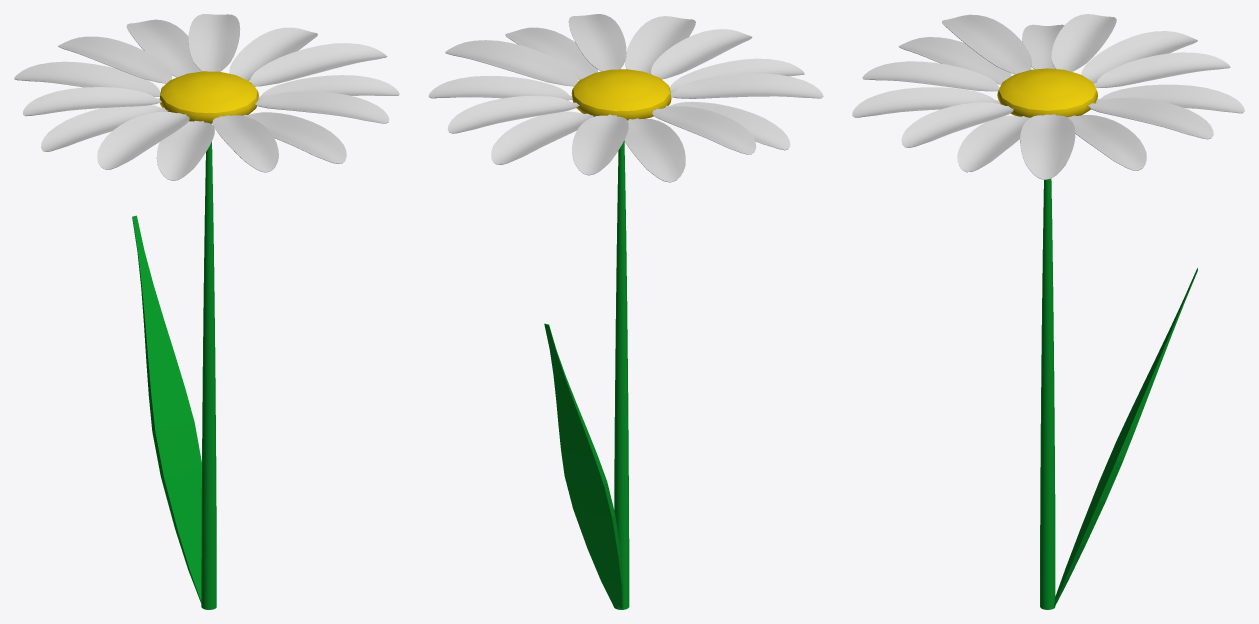
Rendered from Marguerite_Mesh.fbx.
3 renders of one model, left to right at view 1: azimuth 30°, elevation 25°; view 2: azimuth 150°, elevation 25°; view 3: azimuth 270°, elevation 25°, orthographic.
Parts seen in each view (by area): view 1: Daisy.001; view 2: Daisy.001; view 3: Daisy.001.
Part boxes in pixels (x1,y1,x2,y2): Daisy.001: (14, 14, 399, 609); Daisy.001: (428, 14, 823, 609); Daisy.001: (852, 14, 1244, 609).
Size of the model in its own units: 72.78 by 107 by 72.04.
